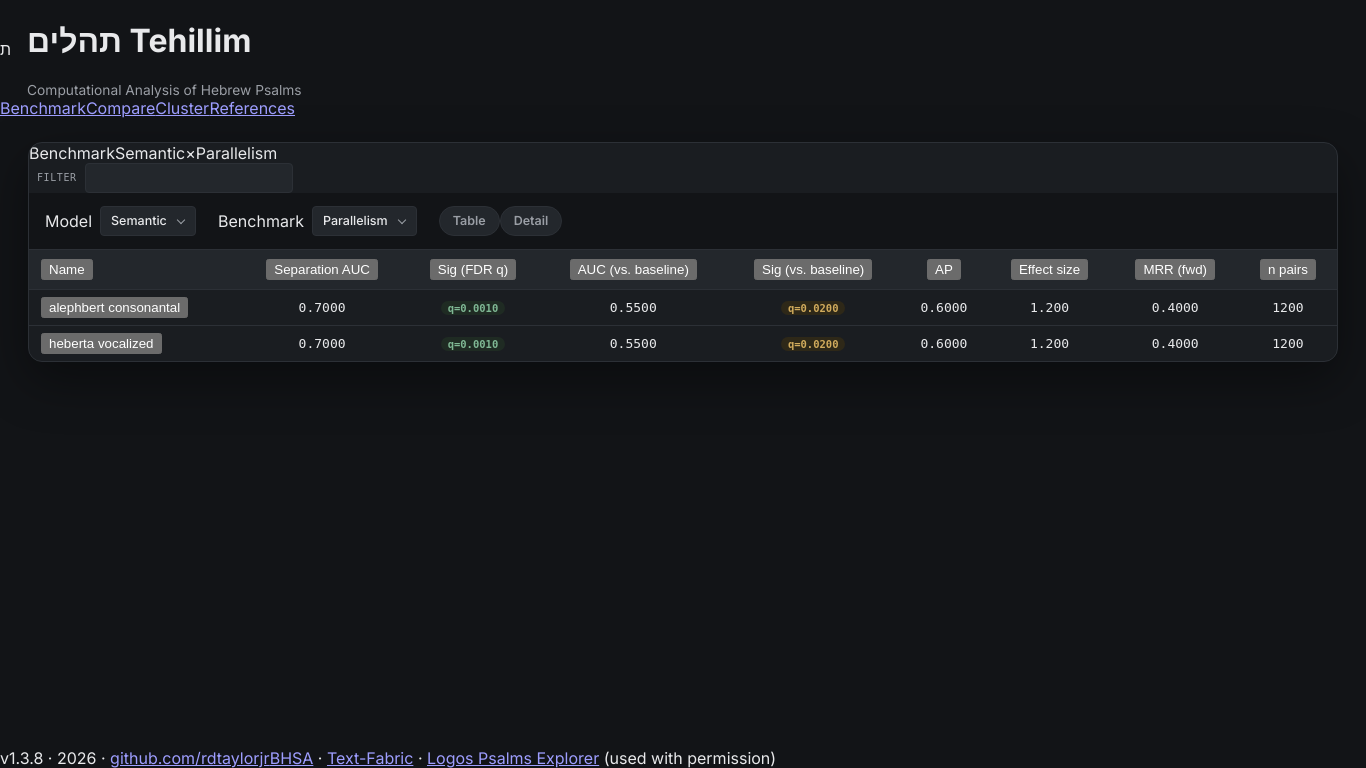
Scenario: App › returns to the table from the View switch, clearing the open model
The image size is (1366, 768).
Step 1. Click the button "alephbert consonantal" → (115, 307), box [41,297,188,318]
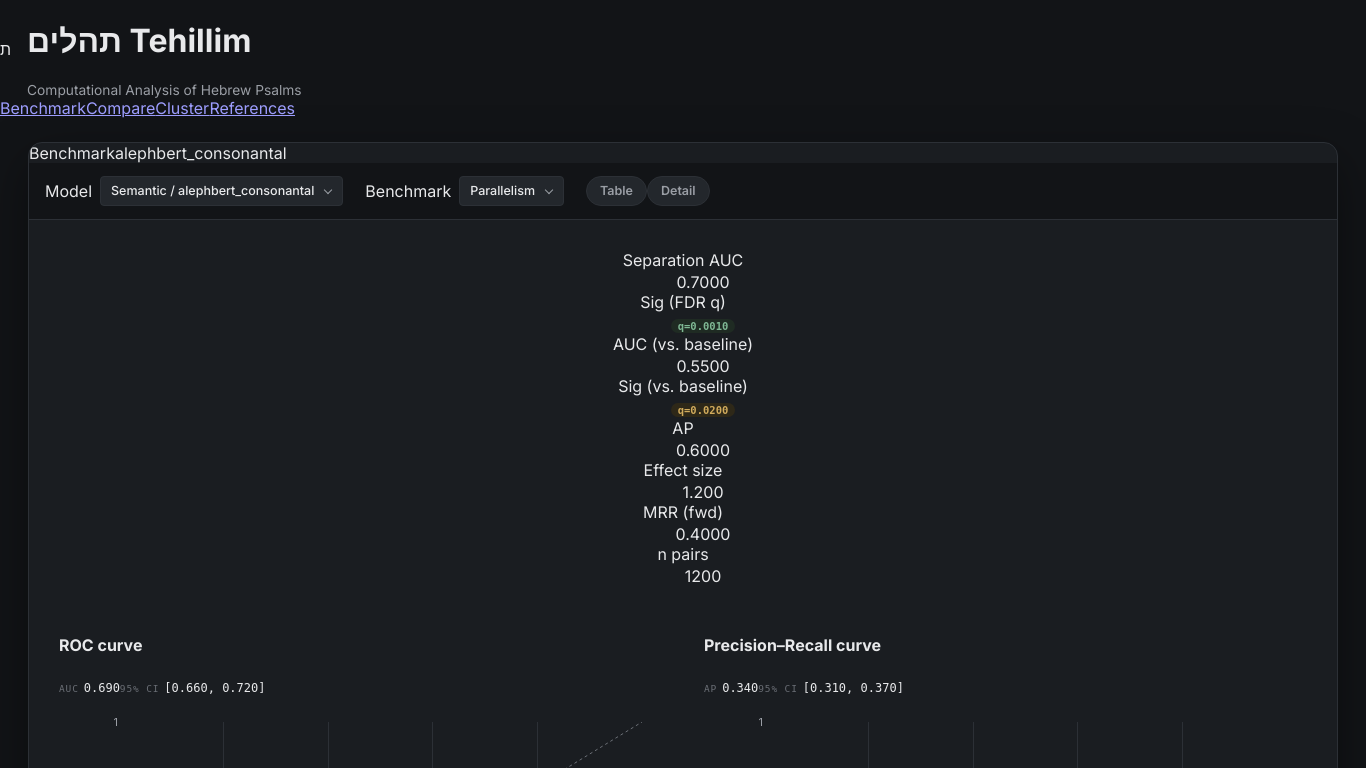
Step 2. Click the radio button labelled "Table" → (616, 191), box [586,176,647,206]
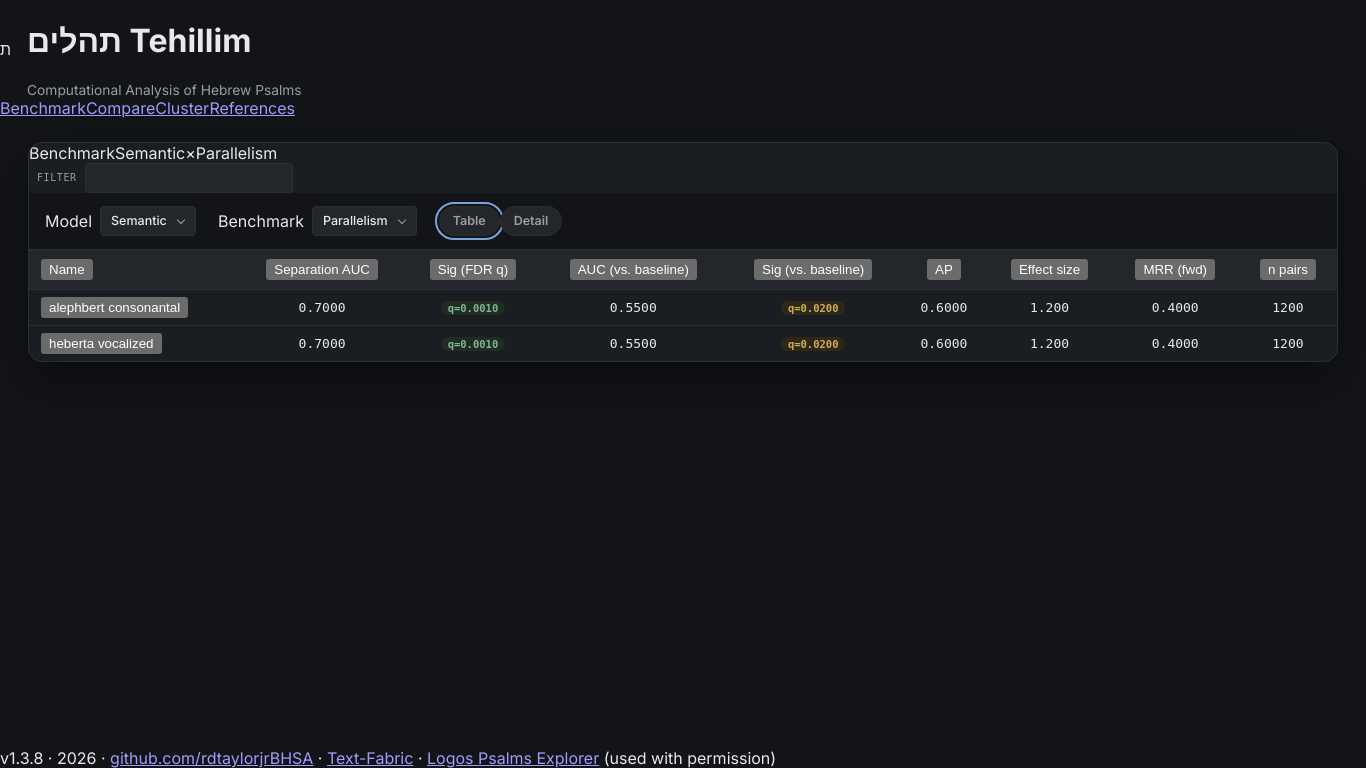
Expected: the table is shown, [29,250,1337,361]
